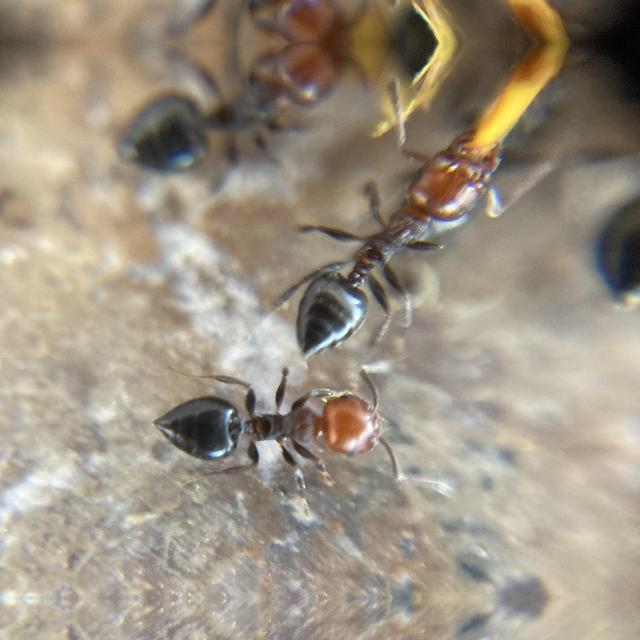Crematogaster: (286, 114, 512, 370)
